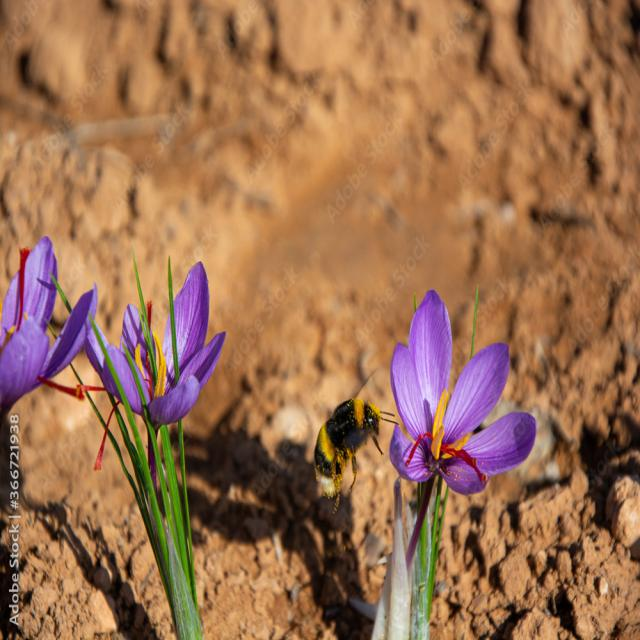saffron open: (390, 290, 535, 493), (85, 262, 225, 429), (0, 236, 98, 427)
